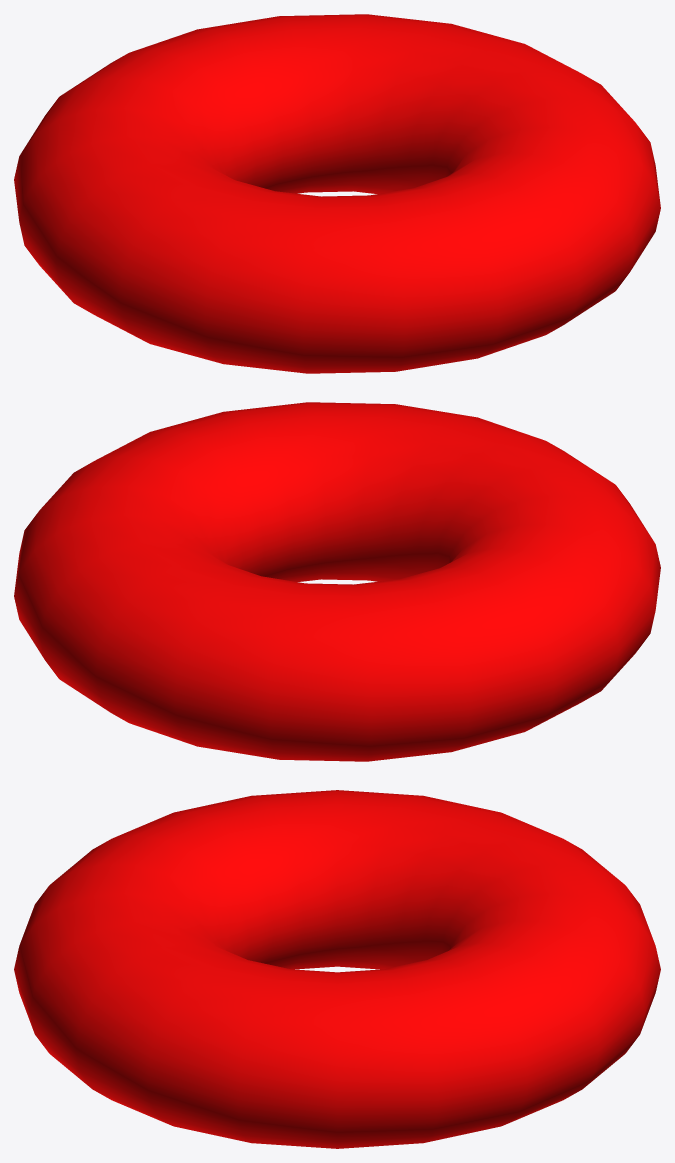
File: toroide1.obj
The picture shows the model from 3 angles, top to bottom: view 1: azimuth 30°, elevation 25°; view 2: azimuth 150°, elevation 25°; view 3: azimuth 270°, elevation 25°; orthographic projection.
Parts seen in each view (by area): view 1: pTorus1; view 2: pTorus1; view 3: pTorus1.
Boxes of the visible parts, x1,y1,x2,y2 form: pTorus1: (14,14,660,373); pTorus1: (14,402,660,761); pTorus1: (14,790,660,1148).
Size of the model in its own units: 10.2 by 2.65 by 10.2.
Materials: 1 (1 with a texture image).
